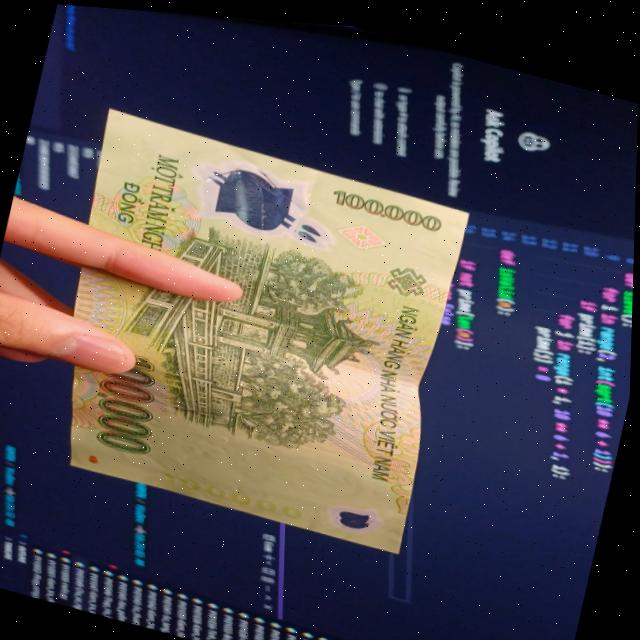100 000 VND: (25, 101, 485, 556)
